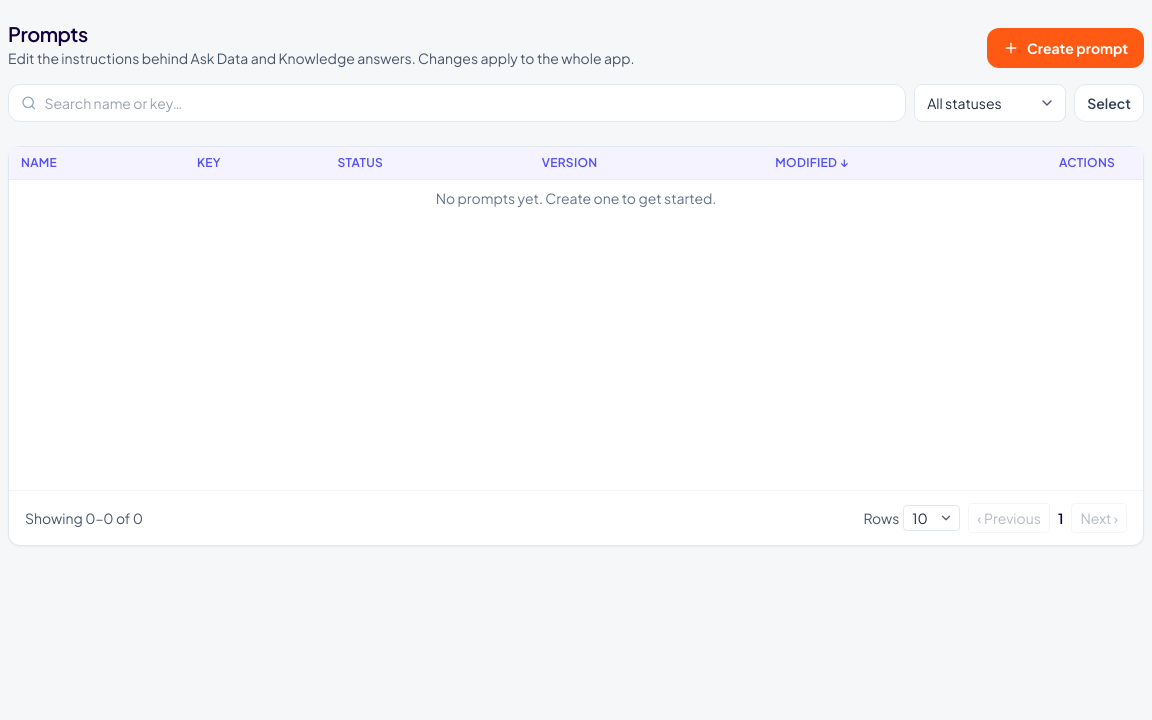
Scenario: Prompts page shell › publishes a new prompt straight from the create drawer and closes it
Click the button "Create prompt" at (1065, 48), box [987,28,1144,68]
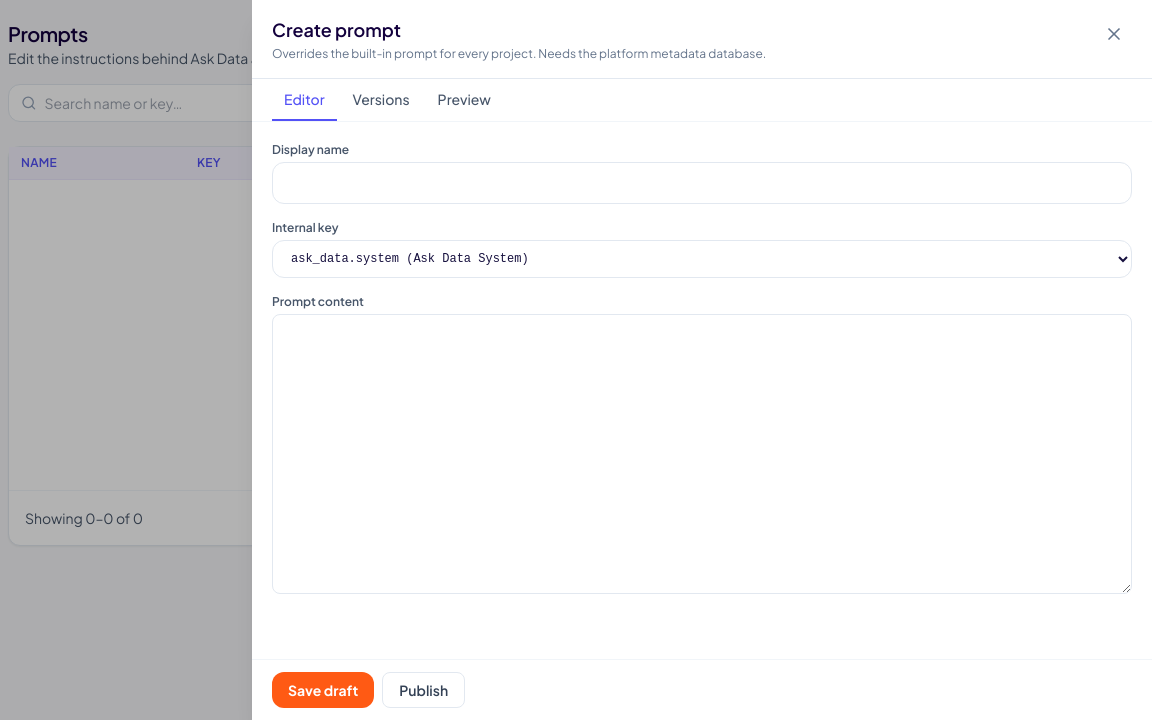
Type "RAG answers" into the field at (702, 183), box [272,162,1132,204]
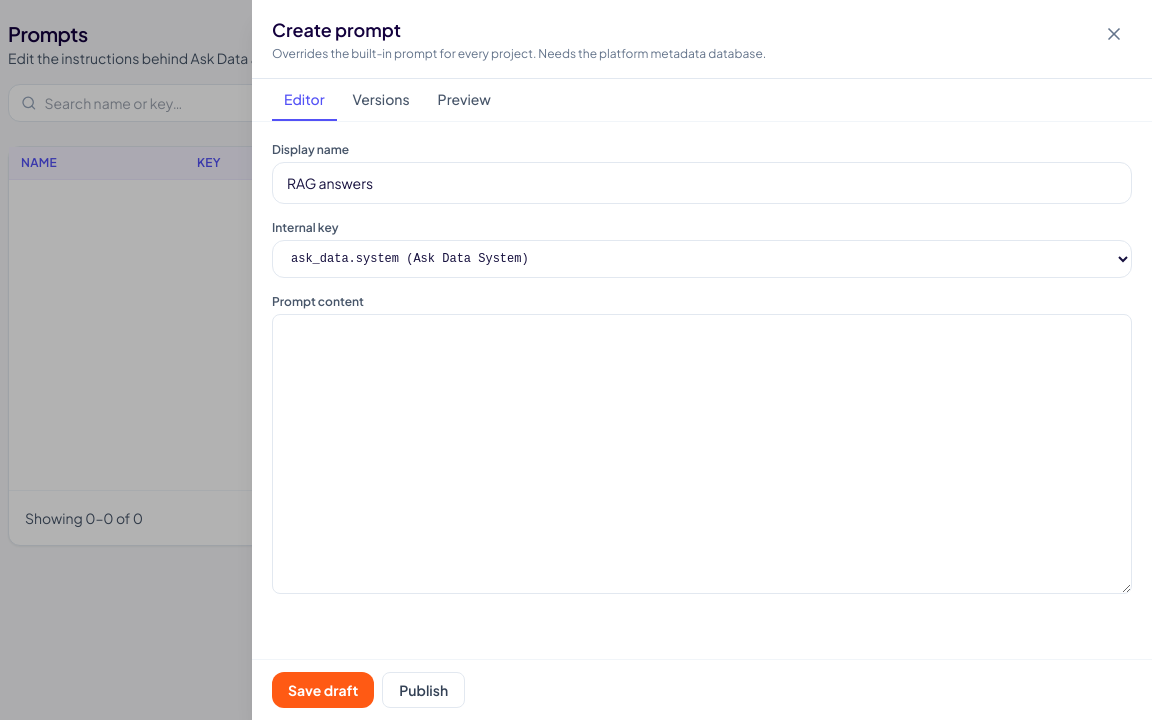
Click the button "Publish" at (424, 690), box [382,672,465,708]
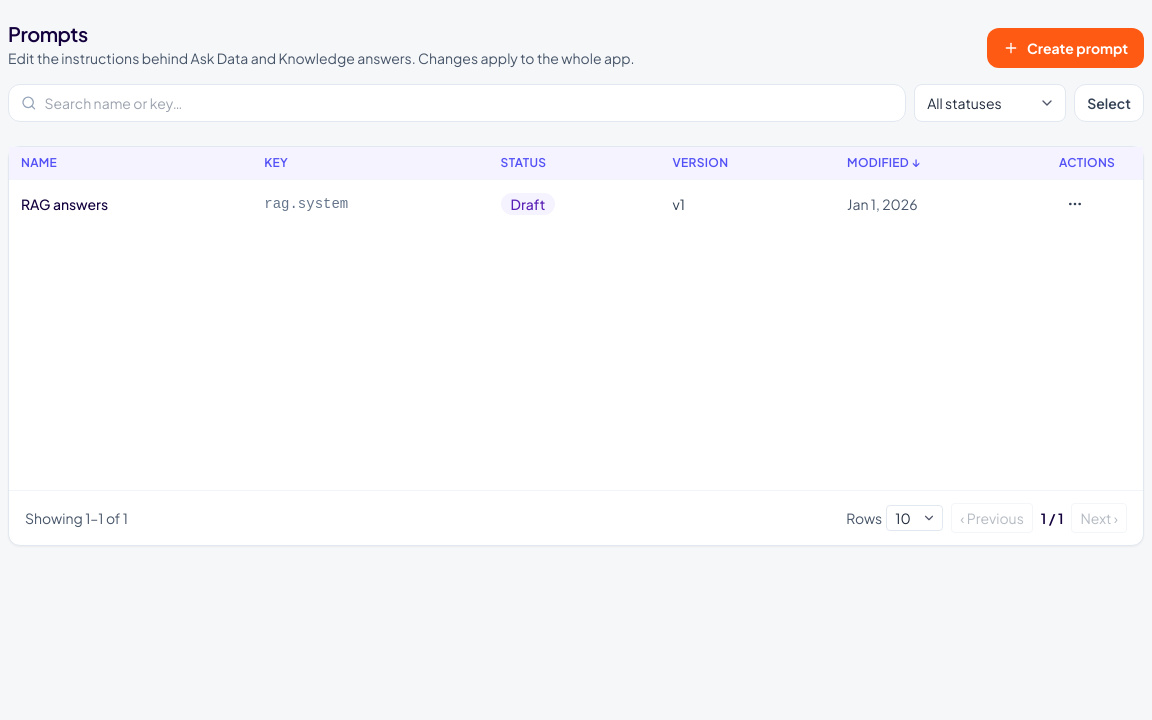
Check: the text "Overrides the built-in prompt for every project. Needs the platform metadata database." is gone
